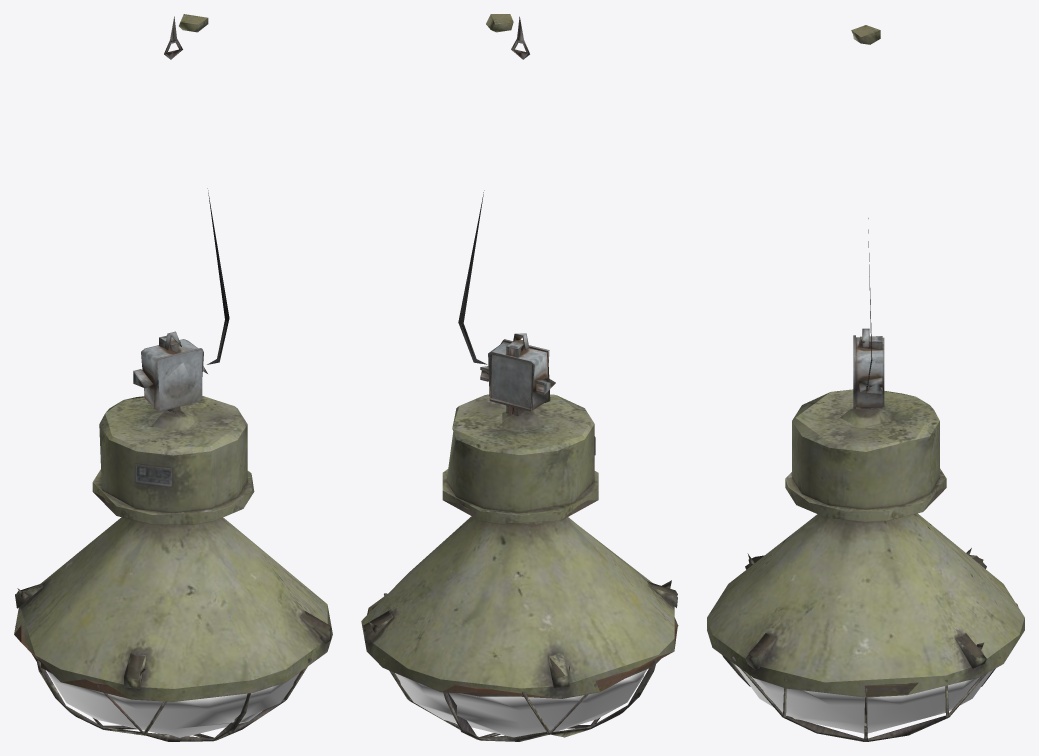
File: hanging_industrial_lamp_game.gltf
The picture shows the model from 3 angles, left to right: view 1: azimuth 30°, elevation 25°; view 2: azimuth 150°, elevation 25°; view 3: azimuth 270°, elevation 25°; orthographic projection.
Visible parts, largest first — view 1: hanging_industrial_lamp; view 2: hanging_industrial_lamp; view 3: hanging_industrial_lamp.
Boxes of the visible parts, left/top/right/bottom form: hanging_industrial_lamp: left=14, top=14, right=332, bottom=741; hanging_industrial_lamp: left=361, top=14, right=678, bottom=741; hanging_industrial_lamp: left=707, top=25, right=1024, bottom=741.
Size of the model in its own units: 0.5496 by 1.36 by 0.5496.
Materials: 2 (1 with a texture image).
